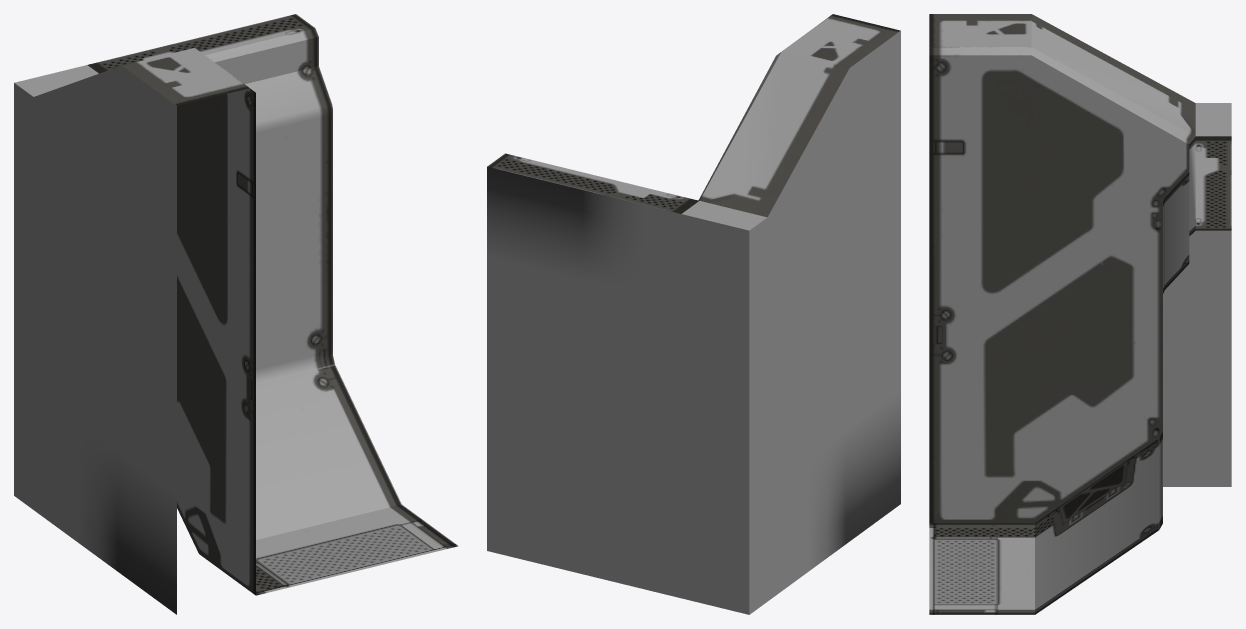
File: A_End_R_2x2.FBX
3 renders of one model, left to right at view 1: azimuth 30°, elevation 25°; view 2: azimuth 150°, elevation 25°; view 3: azimuth 270°, elevation 25°, orthographic. The views are drawn at different scales.
Parts seen in each view (by area): view 1: A_End_R_2x2; view 2: A_End_R_2x2; view 3: A_End_R_2x2.
Boxes of the visible parts, left/top/right/bottom form: A_End_R_2x2: left=14, top=14, right=458, bottom=614; A_End_R_2x2: left=487, top=14, right=900, bottom=614; A_End_R_2x2: left=929, top=14, right=1231, bottom=614.
Bounding box in the file's own units: 200 × 345 × 200.
